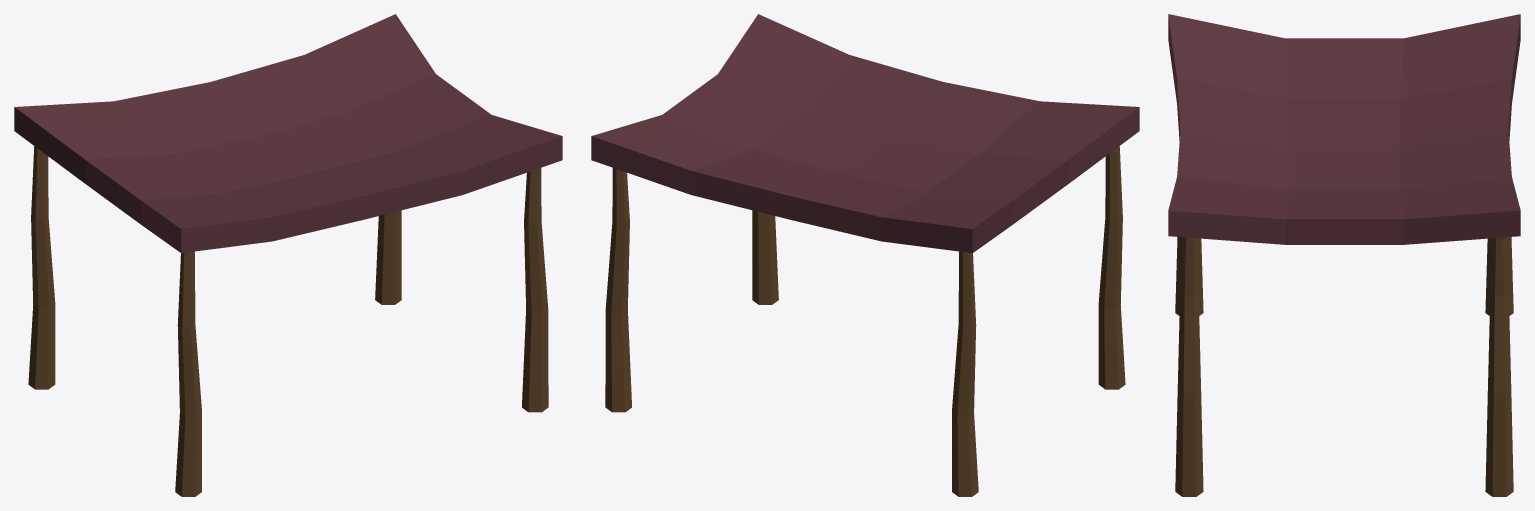
File: egypt-stand.fbx
3 views of the same model, side by side, from view 1: azimuth 30°, elevation 25°; view 2: azimuth 150°, elevation 25°; view 3: azimuth 270°, elevation 25° (orthographic). The views are drawn at different scales.
Parts seen in each view (by area): view 1: egypt-stand; view 2: egypt-stand; view 3: egypt-stand.
Boxes of the visible parts, box(x1,y1,x2,y2) form: egypt-stand: box(14, 14, 562, 496); egypt-stand: box(591, 14, 1139, 496); egypt-stand: box(1168, 14, 1520, 496).
Bounding box in the file's own units: 3.3 × 2.27 × 2.5.
